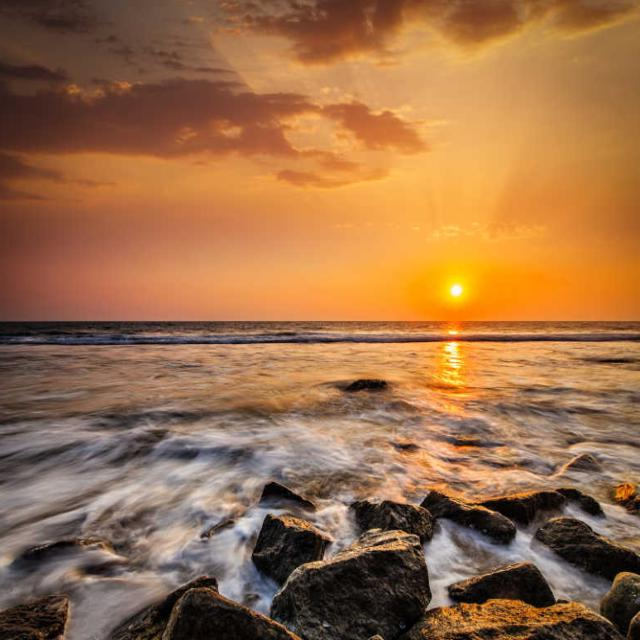reef: (254, 460, 527, 608)
